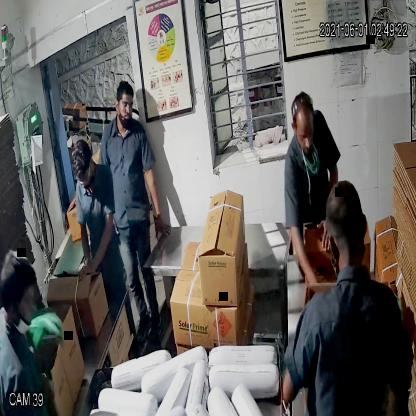goggles: (72, 165, 96, 190)
no_goggles: (288, 118, 316, 146), (112, 93, 140, 116)
